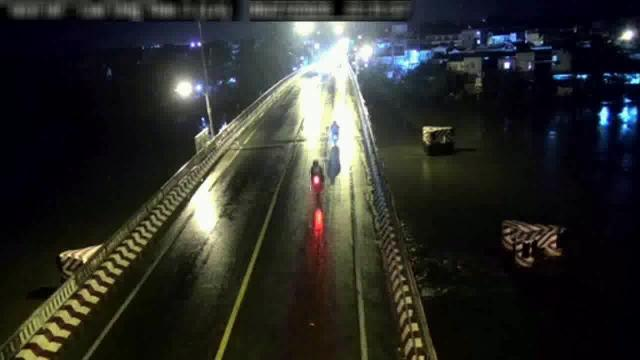Bike: (310, 158, 326, 194), (329, 121, 341, 145)
